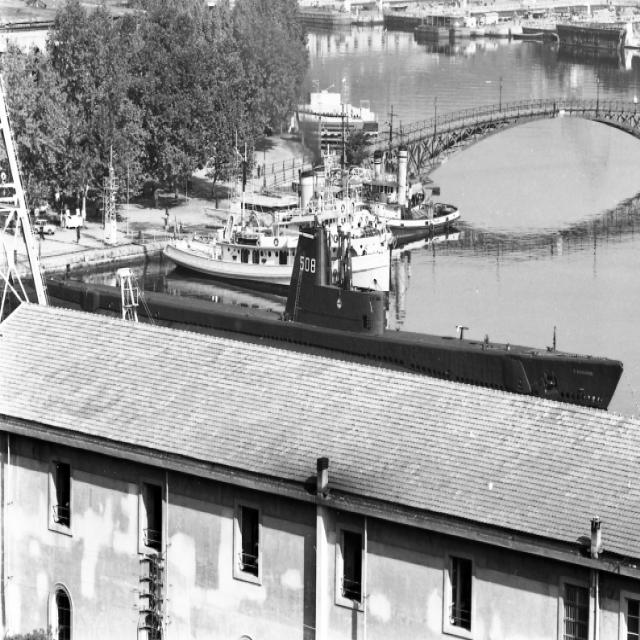submarine: (28, 222, 617, 425)
